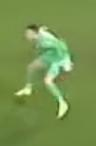goalkeeper: (11, 14, 85, 126)
